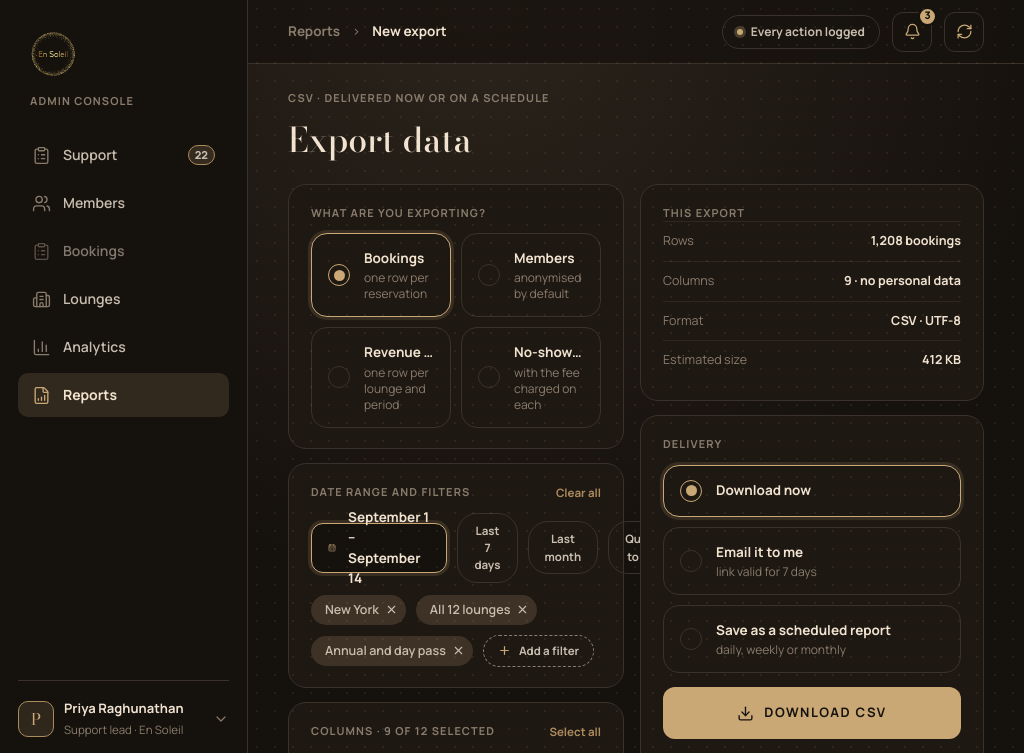
Test: Export data (/admin/reports) › updates the row count when a different dataset is chosen
Click the radio button labelled "Members anonymised by default": (531, 275) [461, 233, 601, 317]
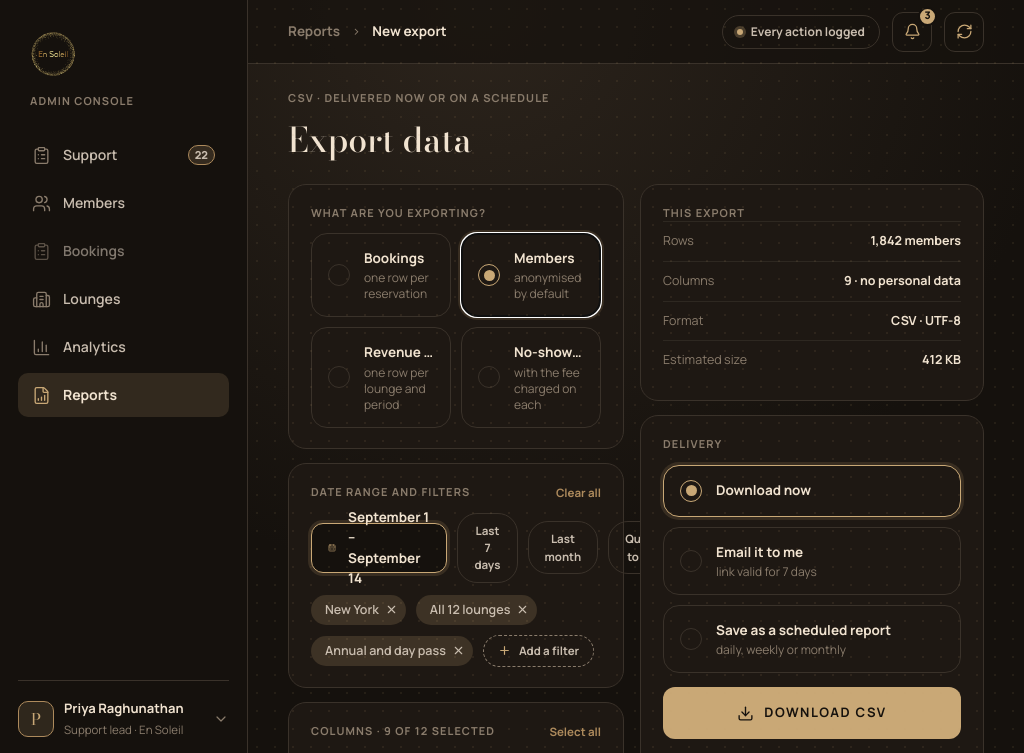
Check: the text "1,842 members" is shown, box [871, 232, 961, 251]
